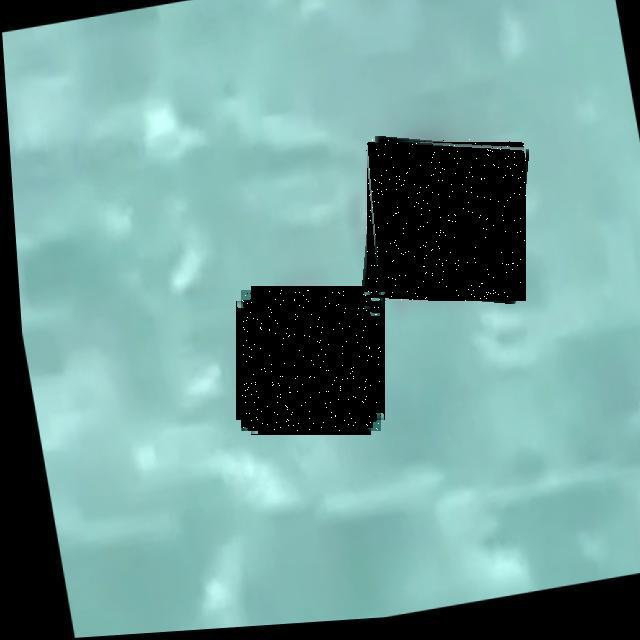swimming: (365, 139, 526, 301), (241, 290, 381, 431)
